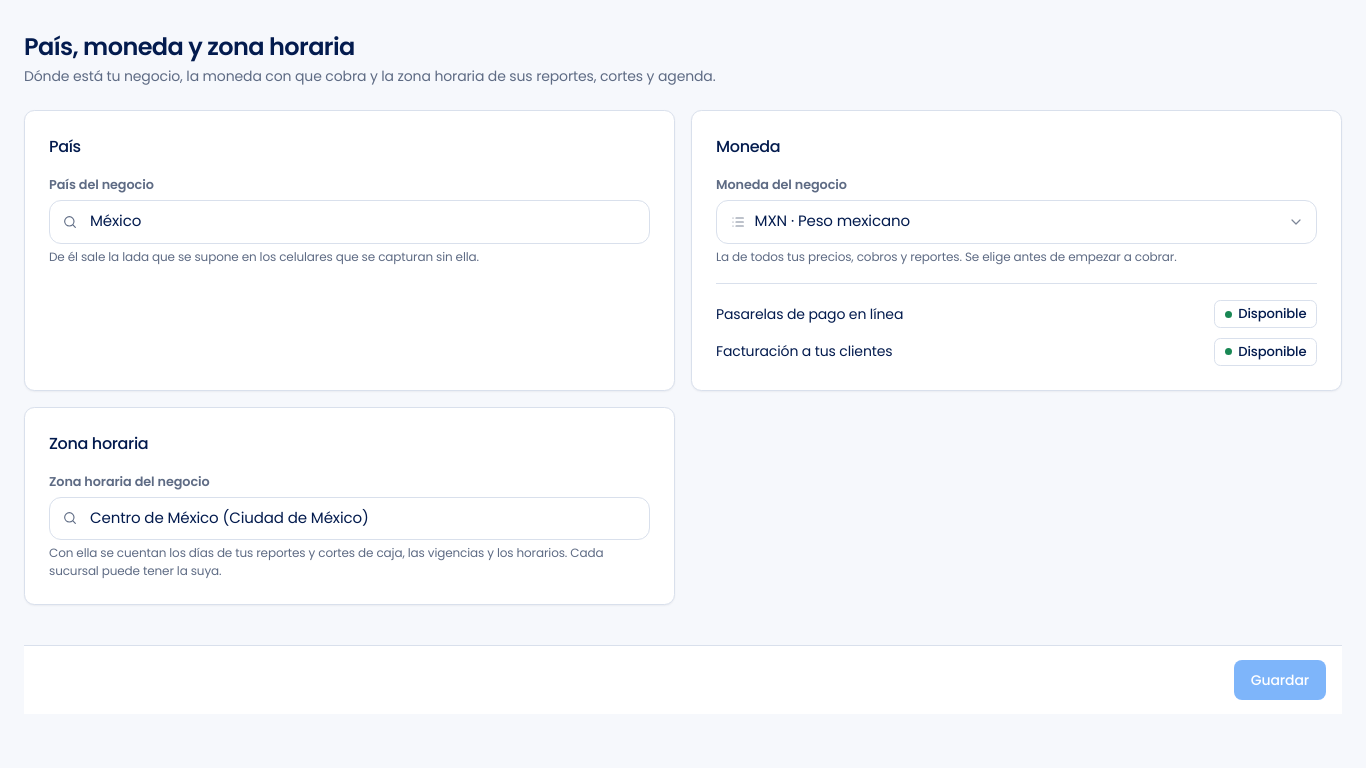
it: país, moneda y zona horaria del negocio › lo que el servidor rechaza se dice junto a su campo (ADR 0166)
The width and height of the screenshot is (1366, 768).
Replace the text in the dropdown labelled "Zona horaria del negocio" with "tijuana" at (350, 518), box [49,497,650,540]
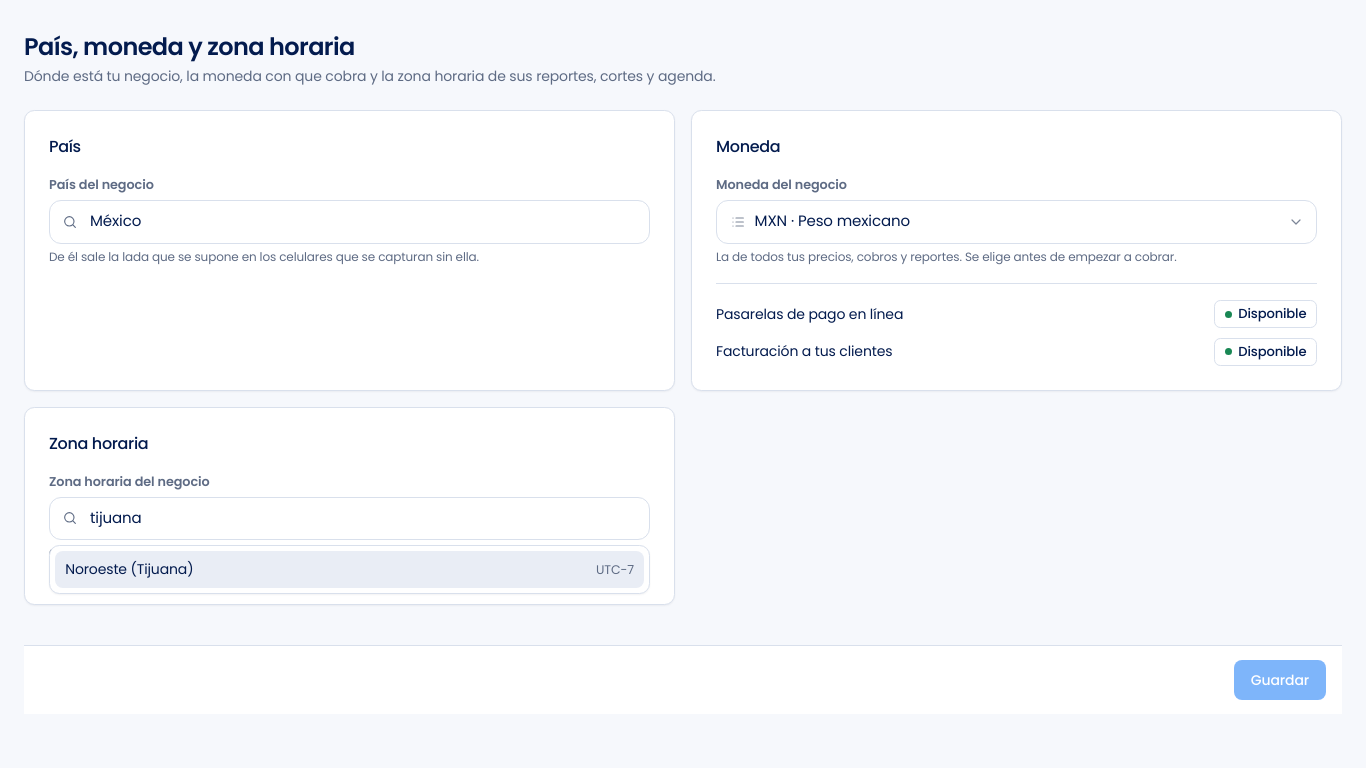
Press Enter in the dropdown labelled "Zona horaria del negocio", box [49,497,650,540]
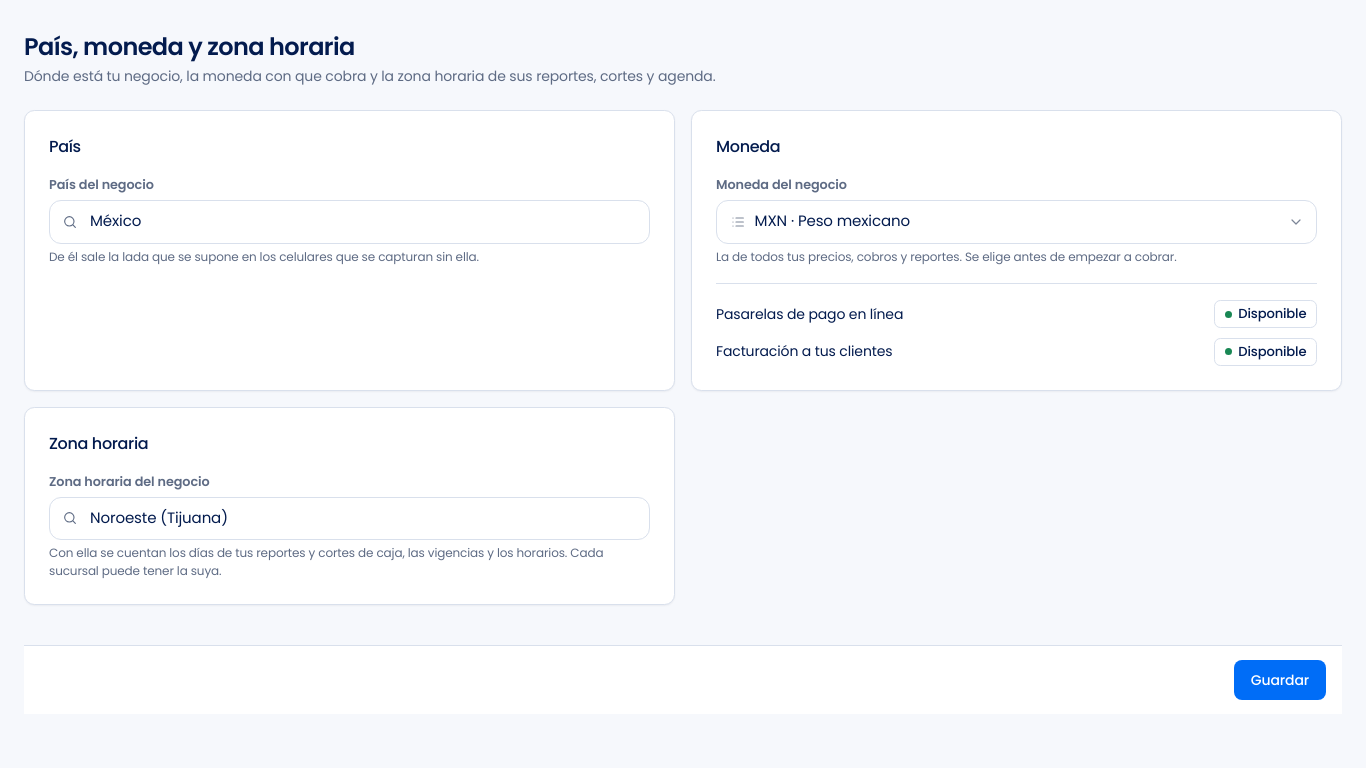
Submit the form
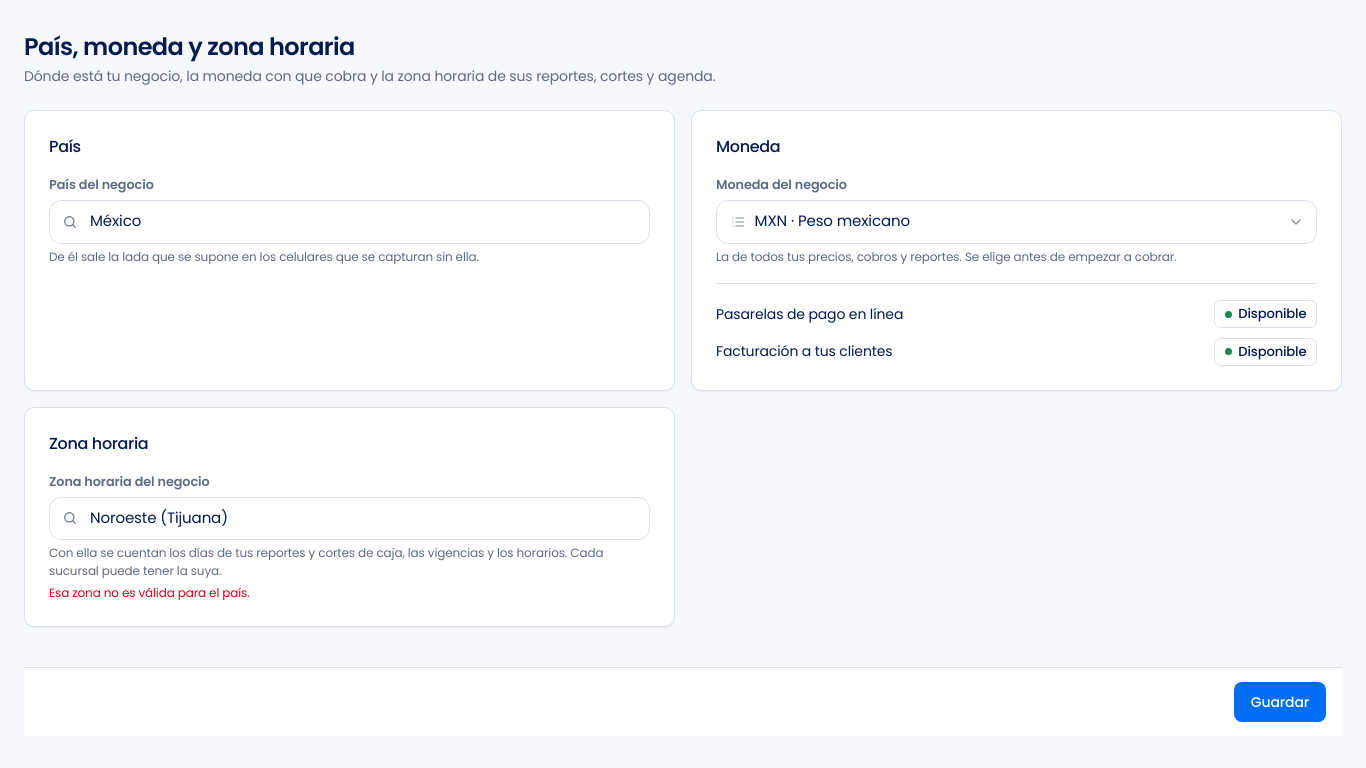
Result: the message "Esa zona no es válida para el país." is shown at [49,584,250,601]
